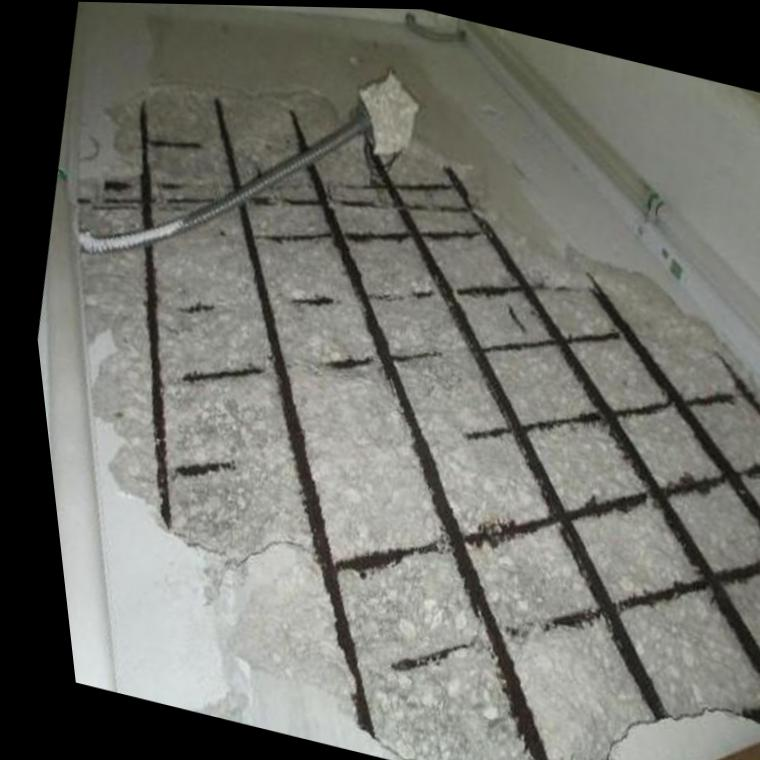damage: (67, 87, 760, 760)
